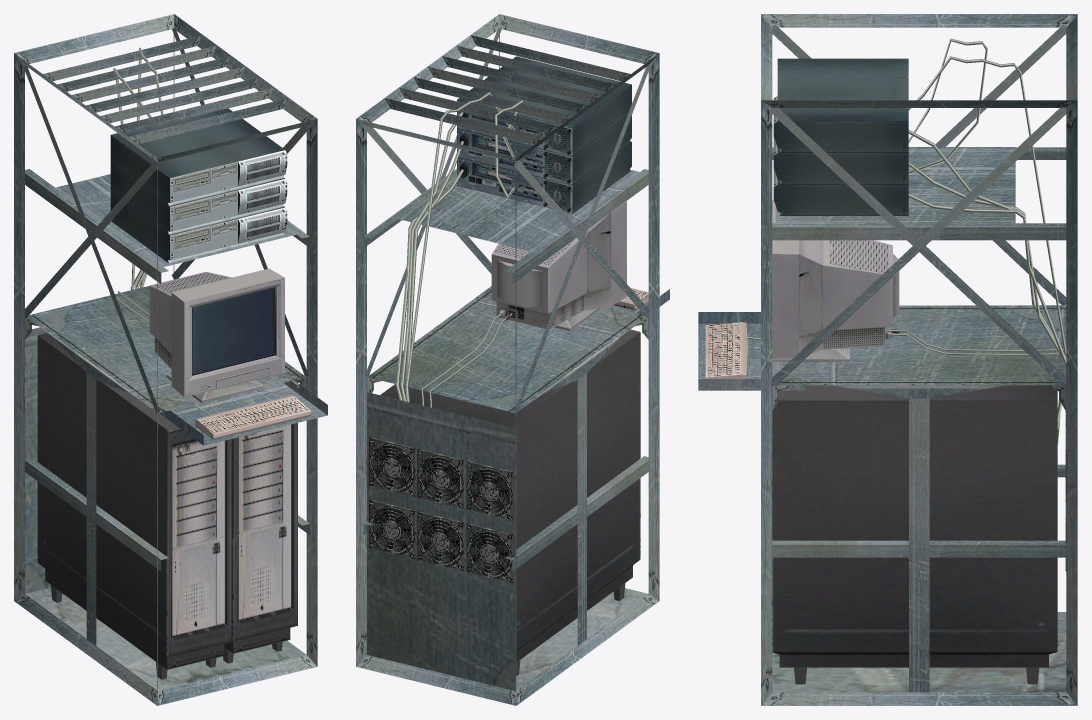
Rendered from hacker_room_rack_1.fbx.
3 views of the same model, side by side, from view 1: azimuth 30°, elevation 25°; view 2: azimuth 150°, elevation 25°; view 3: azimuth 270°, elevation 25° (orthographic). The views are drawn at different scales.
Parts seen in each view (by area): view 1: mesh_0, mesh_1, mesh_2; view 2: mesh_0, mesh_1, mesh_3; view 3: mesh_0, mesh_1, mesh_2.
Boxes of the visible parts, x1,y1,x2,y2 form: mesh_0: [14, 14, 327, 705]; mesh_1: [37, 108, 297, 679]; mesh_2: [195, 395, 311, 439]; mesh_0: [356, 14, 669, 705]; mesh_1: [380, 56, 640, 676]; mesh_3: [369, 437, 513, 582]; mesh_0: [698, 14, 1077, 705]; mesh_1: [772, 58, 1057, 684]; mesh_2: [705, 322, 747, 378].
Size of the model in its own units: 69.97 by 230 by 130.
4 materials, 4 textured.
